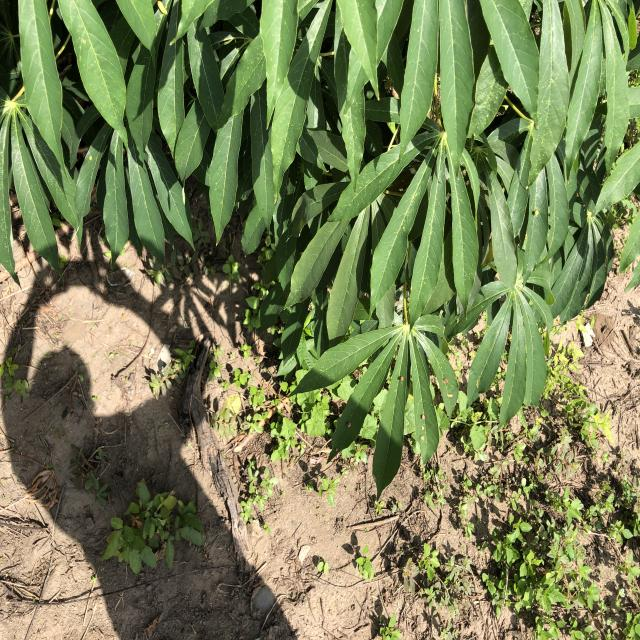Maleza: (478, 432, 640, 640), (102, 492, 212, 575)
Mosca: (419, 411, 429, 444), (394, 369, 407, 385), (83, 148, 97, 162), (528, 205, 542, 218), (439, 375, 453, 386), (444, 391, 457, 402), (341, 419, 356, 428), (331, 444, 342, 454)
